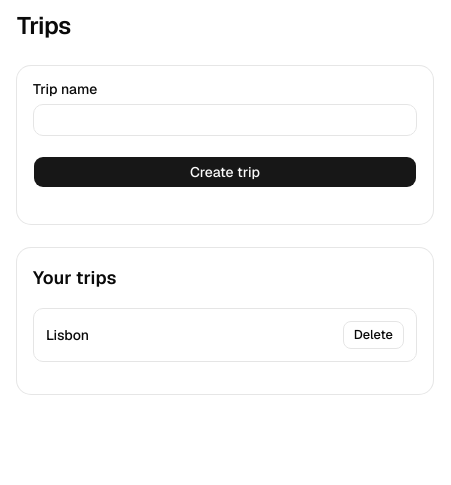
Test: TripsPage › F2.AC9 a trip created on the page is added at the top of the list
expect the link "Lisbon" is shown: met, box top-left (46, 325), bottom-right (89, 345)
Type "Paris 2026" into the field labelled "Trip name" at (225, 120), box top-left (33, 104), bottom-right (417, 136)
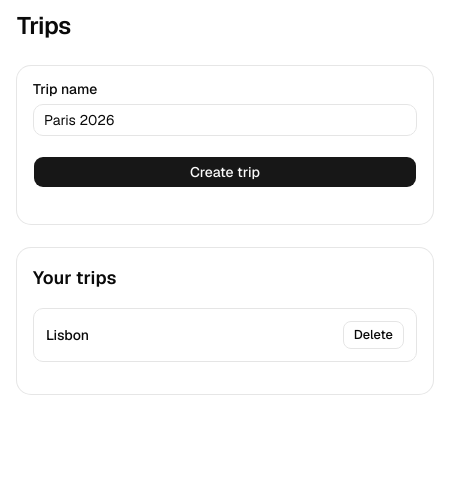
Click the button "Create trip" at (225, 172), box top-left (33, 156), bottom-right (417, 188)
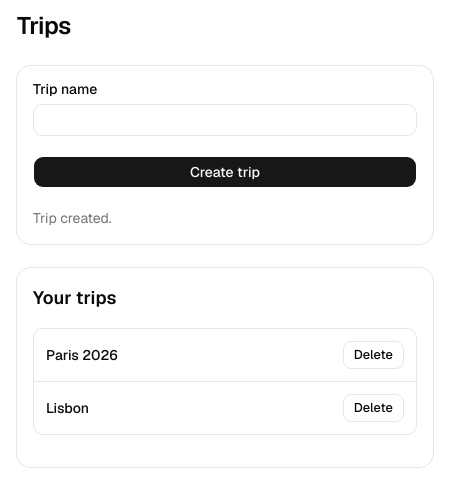
expect the list item "Paris 2026 Delete" is shown: met, box top-left (34, 329), bottom-right (416, 382)
